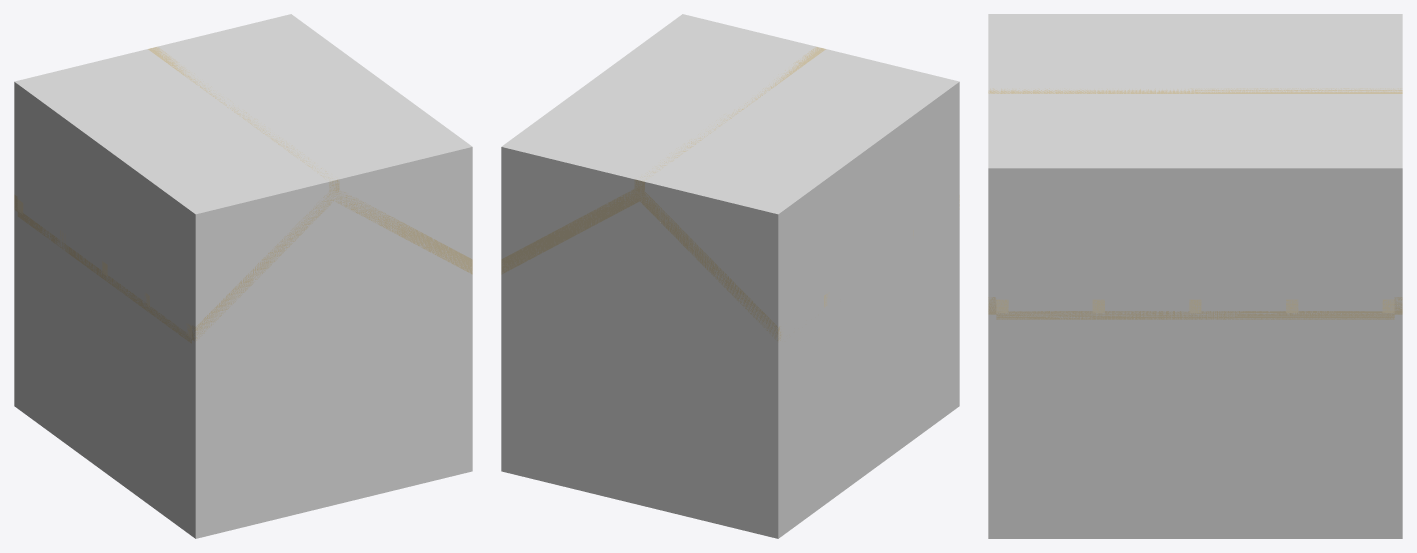
The model's file is FMS_Greenhouse.fbx.
The picture shows the model from 3 angles, left to right: view 1: azimuth 30°, elevation 25°; view 2: azimuth 150°, elevation 25°; view 3: azimuth 270°, elevation 25°; orthographic projection. The views are drawn at different scales.
Visible parts, largest first — view 1: FMS_Greenhouse_Col, FMS_Greenhouse_LOD0; view 2: FMS_Greenhouse_Col, FMS_Greenhouse_LOD0; view 3: FMS_Greenhouse_Col, FMS_Greenhouse_LOD0.
Part boxes in pixels (<box>): FMS_Greenhouse_Col: <box>14,14,472,538</box>; FMS_Greenhouse_LOD0: <box>14,46,472,343</box>; FMS_Greenhouse_Col: <box>501,14,959,538</box>; FMS_Greenhouse_LOD0: <box>501,47,959,341</box>; FMS_Greenhouse_Col: <box>988,14,1402,538</box>; FMS_Greenhouse_LOD0: <box>988,88,1402,319</box>.
Size of what is drawn, in the model's own units: 2.68 by 3 by 3.04.
2 materials, 1 textured.
